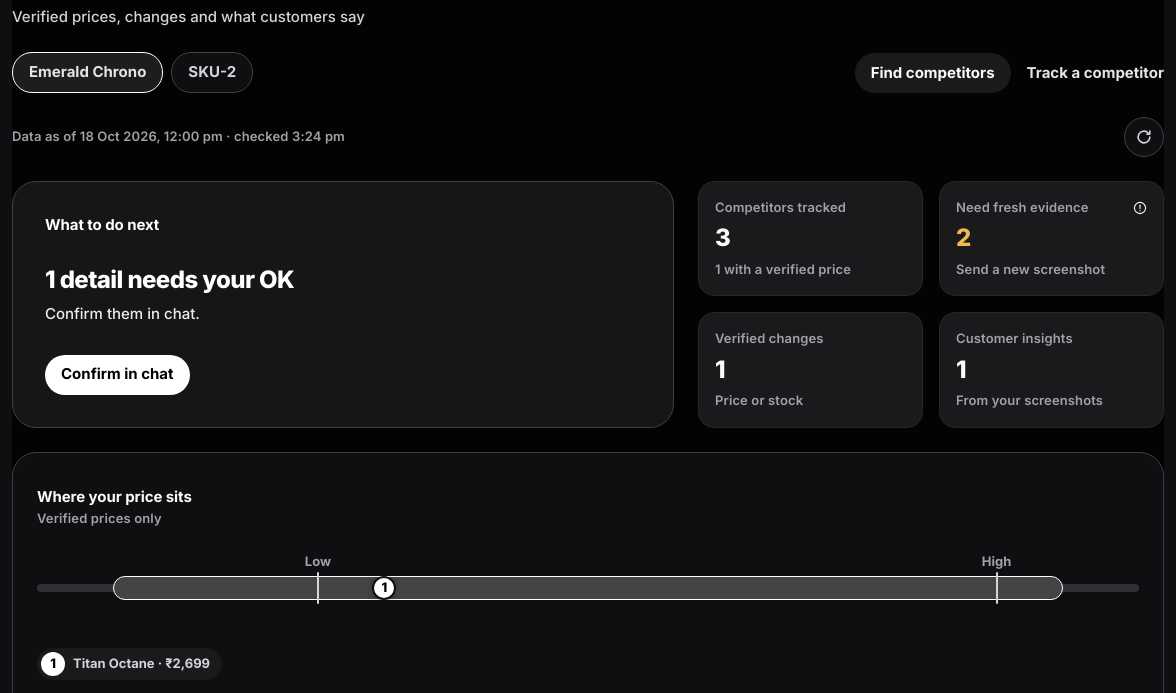
what the dashboard does when data is loading, refreshing or failing › keeps the previous product and names the failure when a switch fails, with a retry
Click the button "SKU-2" at (212, 73), box [171,52,253,93]
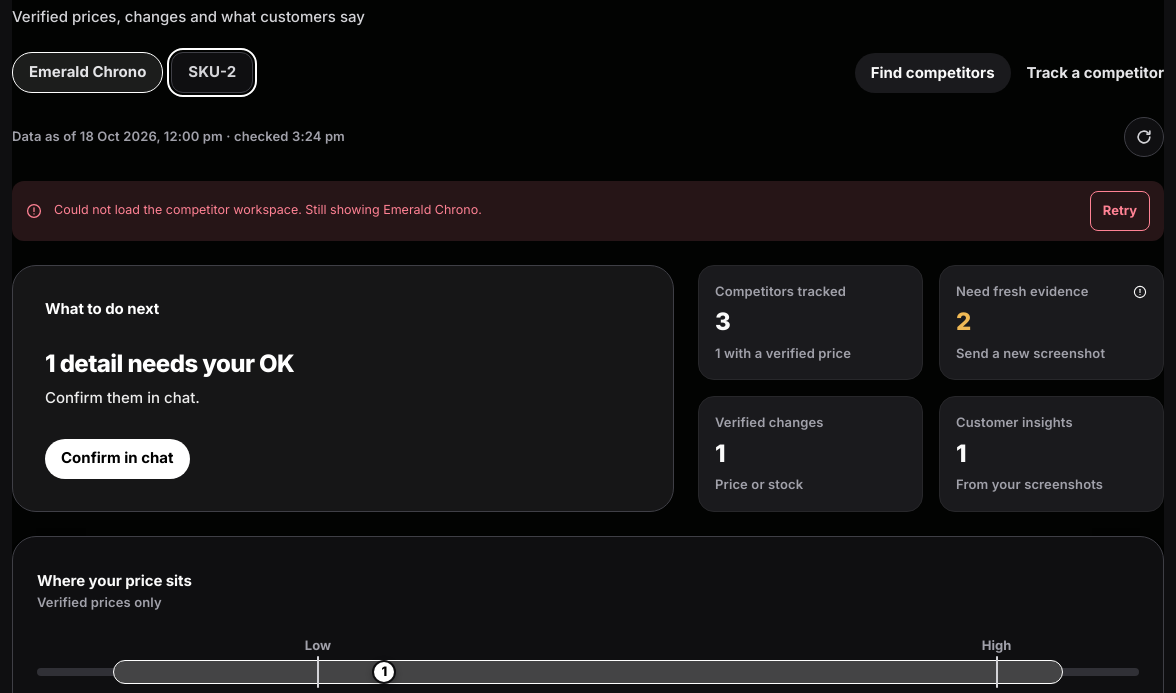
Check: the message "Could not load the competitor workspace. Still showing Emerald Chrono. Retry" is shown, box [12,181,1164,241]
Click the button "Retry" at (1120, 211), box [1090,191,1150,231]
(page scrolled)
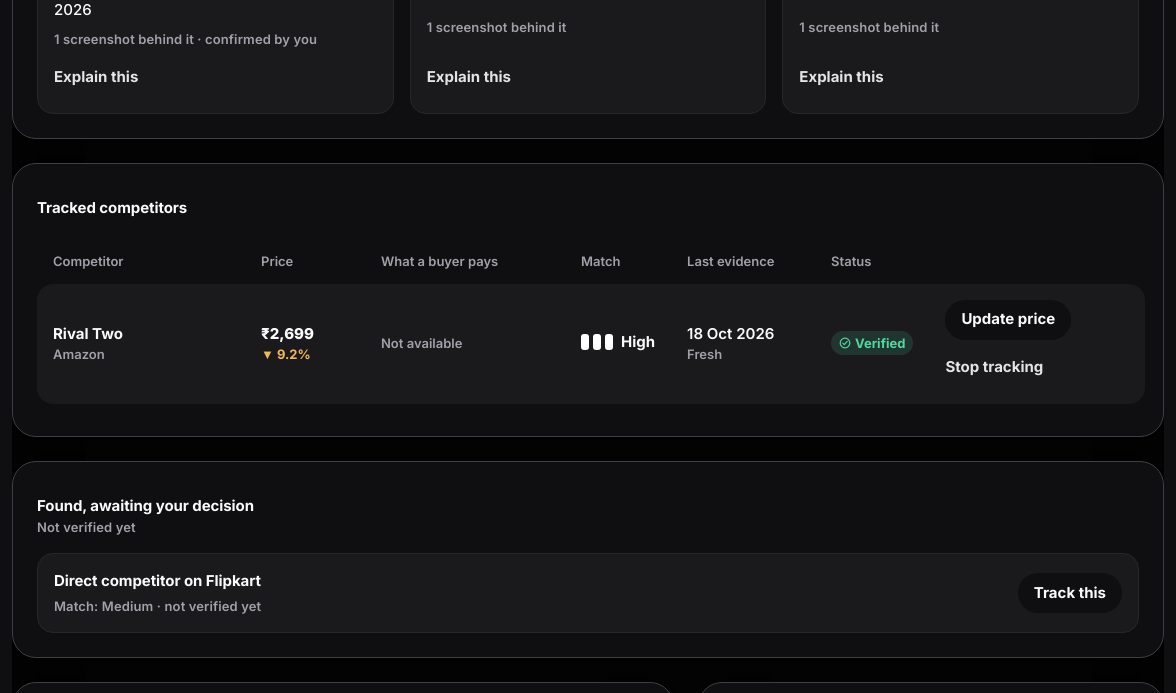
Check: the text "Rival Two" is shown, box [53,324,123,343]
